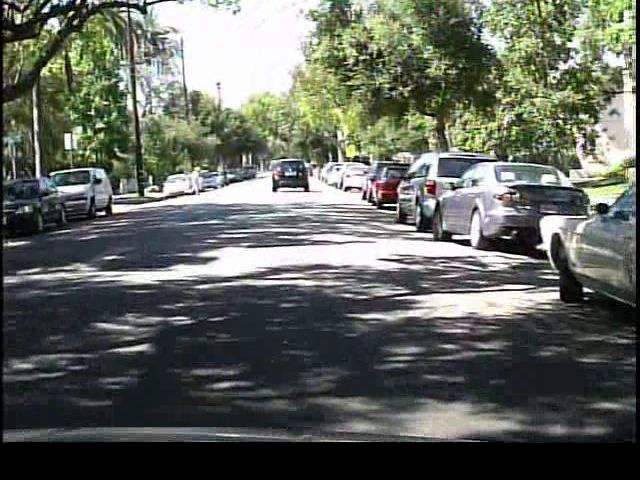person: (185, 163, 204, 201)
